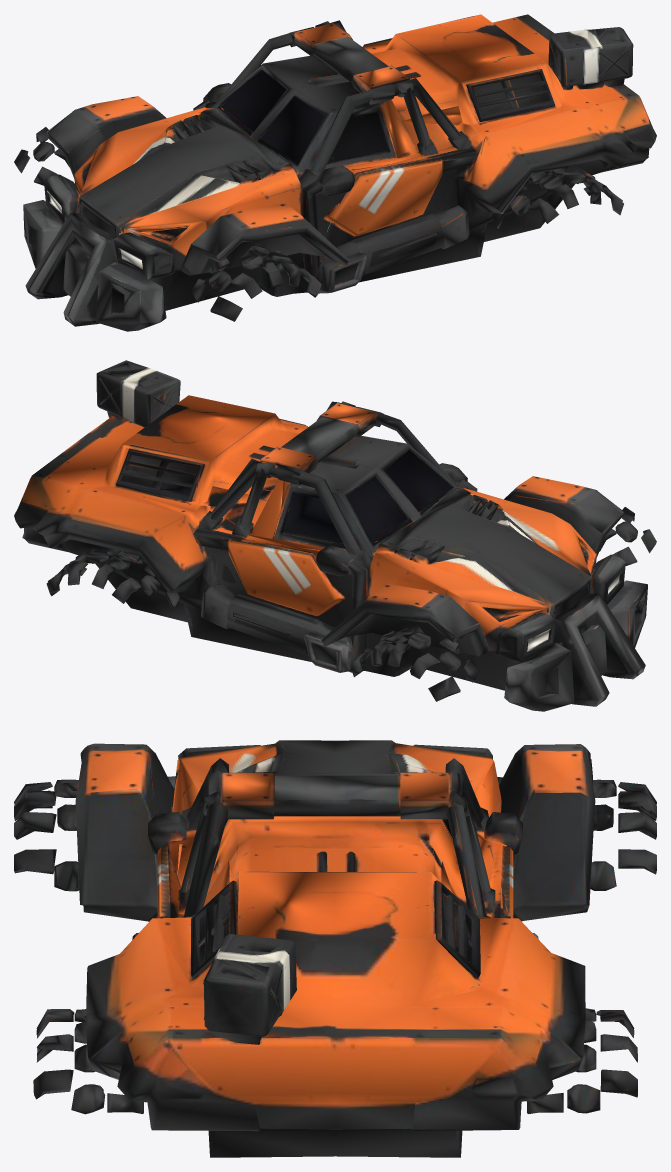
File: Chassis.fbx
3 renders of one model, top to bottom at view 1: azimuth 30°, elevation 25°; view 2: azimuth 150°, elevation 25°; view 3: azimuth 270°, elevation 25°, orthographic. The views are drawn at different scales.
Visible parts, largest first — view 1: Chassis; view 2: Chassis; view 3: Chassis.
Part boxes in pixels (bbox=[...]): Chassis: bbox=[14, 14, 656, 331]; Chassis: bbox=[14, 360, 656, 711]; Chassis: bbox=[14, 740, 656, 1157].
Size of the model in its own units: 95.61 by 30.22 by 64.7.
